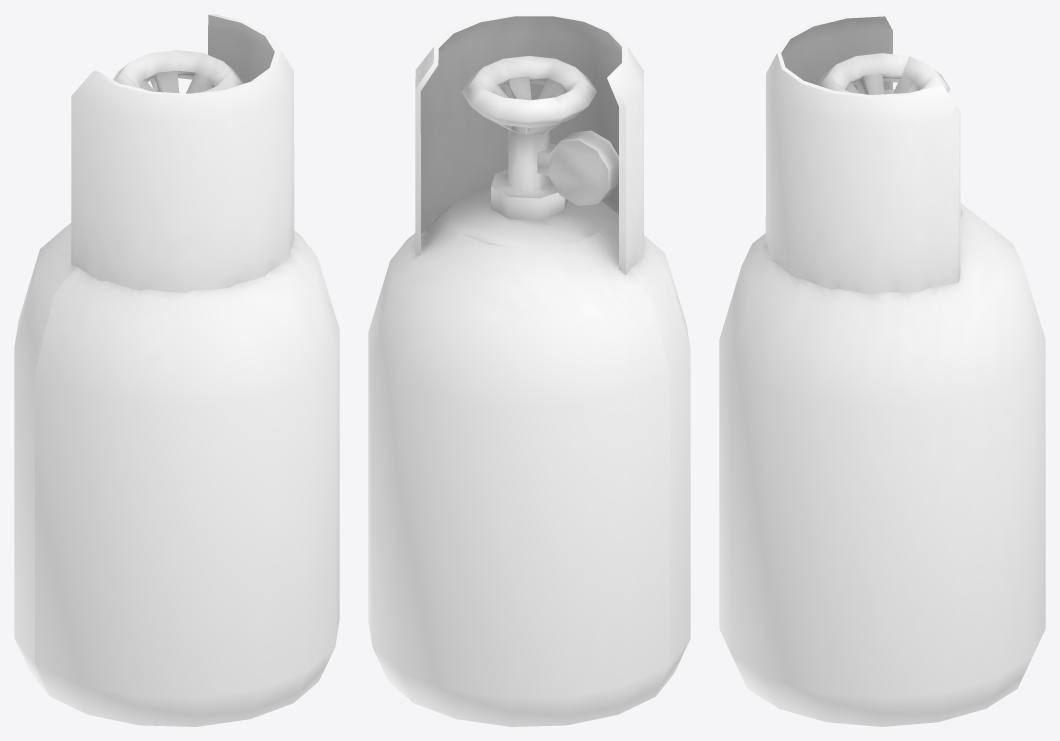
File: GasCannisterShort.glb
The picture shows the model from 3 angles, left to right: view 1: azimuth 30°, elevation 25°; view 2: azimuth 150°, elevation 25°; view 3: azimuth 270°, elevation 25°; orthographic projection.
Visible parts, largest first — view 1: GasCannisterShort, GasCannisterShort.001; view 2: GasCannisterShort, GasCannisterShort.001; view 3: GasCannisterShort, GasCannisterShort.001.
Boxes of the visible parts, box(x1,y1,x2,y2) form: GasCannisterShort: box(14, 223, 339, 726); GasCannisterShort.001: box(71, 14, 294, 292); GasCannisterShort: box(368, 186, 690, 726); GasCannisterShort.001: box(415, 14, 643, 274); GasCannisterShort: box(719, 203, 1045, 726); GasCannisterShort.001: box(765, 14, 960, 294).
Bounding box in the file's own units: 0.3641 × 0.7701 × 0.3641.
Materials: 1 (1 with a texture image).
